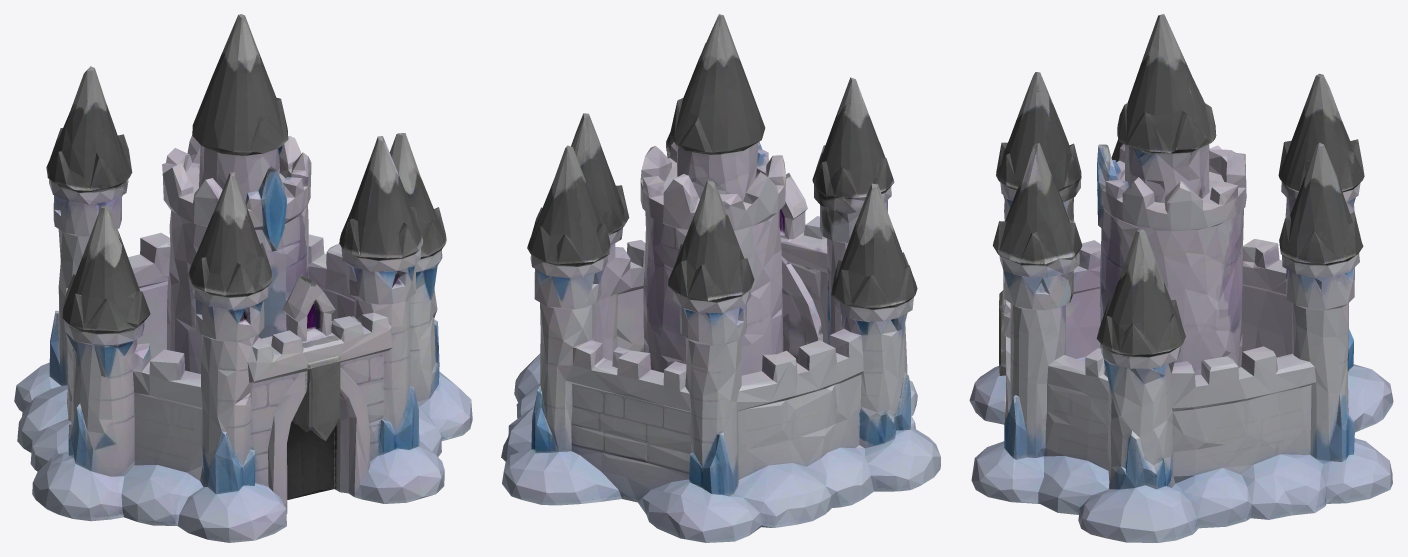
The model's file is ice_castle_1.glb.
3 views of the same model, side by side, from view 1: azimuth 30°, elevation 25°; view 2: azimuth 150°, elevation 25°; view 3: azimuth 270°, elevation 25° (orthographic). The views are drawn at different scales.
Size of the model in its own units: 1.97 by 1.95 by 1.76.
Materials: 1 (1 with a texture image).
